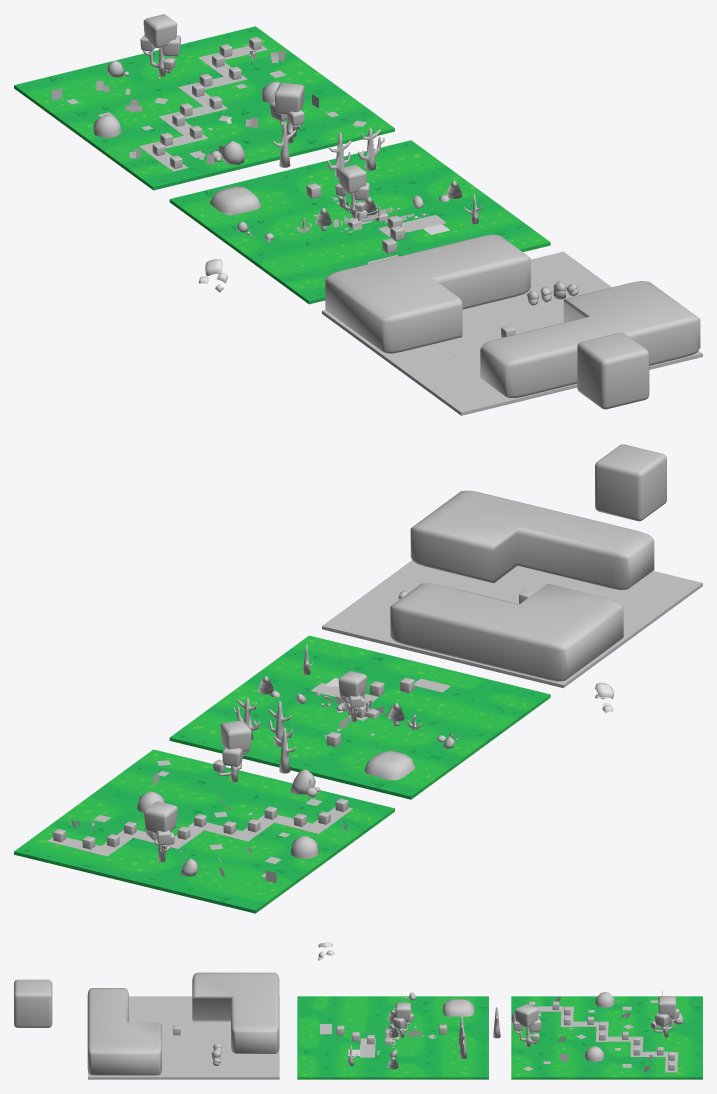
File: Elevator.fbx
The picture shows the model from 3 angles, top to bottom: view 1: azimuth 30°, elevation 25°; view 2: azimuth 150°, elevation 25°; view 3: azimuth 270°, elevation 25°; orthographic projection. The views are drawn at different scales.
Parts seen in each view (by area): view 1: Cube.067, Cube.047, Cube3.033, Cube3.035, Cube.095, Cube3.034, Plane, Cube3.024, Cube3.028, Cube3.009; view 2: Cube.047, Cube.067, Cube3.033, Cube3.035, Cube.095, Cube3.034, Plane, Cube3.024, Cube3.028; view 3: Cube.047, Cube.067, Cube.095, Cube3.033, Cube3.035, Cube3.034, Plane, Cube3.028, Cube3.024, Cube3.009, Sphere.000, Sphere.001.
Boxes of the visible parts, box(x1,y1,x2,y2) form: Cube.067: box(14, 26, 394, 190); Cube.047: box(169, 140, 550, 304); Cube3.033: box(325, 234, 530, 353); Cube3.035: box(480, 281, 700, 397); Cube.095: box(322, 251, 702, 415); Cube3.034: box(577, 332, 649, 409); Plane: box(210, 186, 260, 215); Cube3.024: box(143, 14, 177, 48); Cube3.028: box(274, 83, 304, 114); Cube3.009: box(338, 164, 366, 193); Cube.047: box(169, 635, 550, 799); Cube.067: box(14, 749, 394, 913); Cube3.033: box(390, 583, 623, 681); Cube3.035: box(410, 490, 654, 590); Cube.095: box(322, 560, 702, 688); Cube3.034: box(595, 444, 666, 521); Plane: box(364, 750, 415, 779); Cube3.024: box(144, 801, 177, 833); Cube3.028: box(220, 720, 251, 751); Cube.047: box(297, 996, 488, 1079); Cube.067: box(511, 996, 702, 1079); Cube.095: box(88, 996, 279, 1079); Cube3.033: box(192, 972, 279, 1053); Cube3.035: box(87, 988, 161, 1075); Cube3.034: box(14, 979, 52, 1027); Plane: box(442, 999, 474, 1016); Cube3.028: box(515, 1004, 538, 1027); Cube3.024: box(658, 996, 676, 1017); Cube3.009: box(396, 1002, 410, 1020); Sphere.000: box(595, 992, 614, 1007); Sphere.001: box(584, 1046, 604, 1061).
Bounding box in the file's own units: 6783 × 1479 × 17967.
